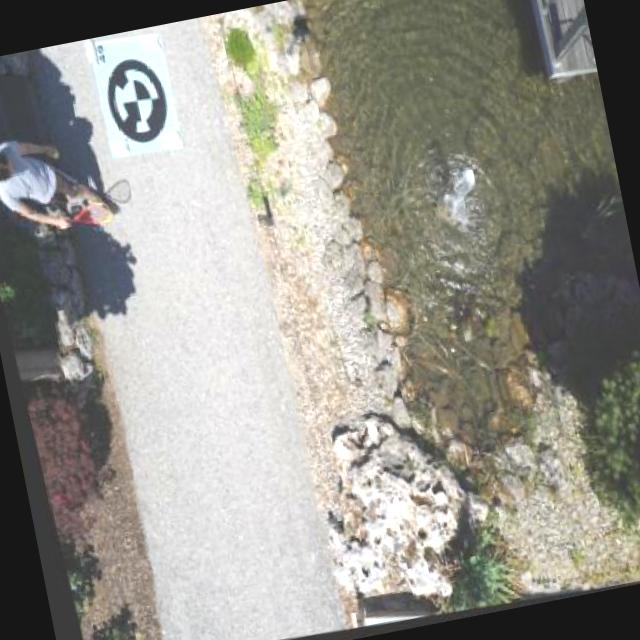Person: (0, 120, 135, 246)
